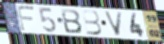4: (130, 13, 145, 39)
5: (38, 7, 58, 34)
B: (60, 8, 84, 34), (81, 9, 104, 36)
F: (16, 5, 37, 33)
V: (103, 10, 124, 37)
